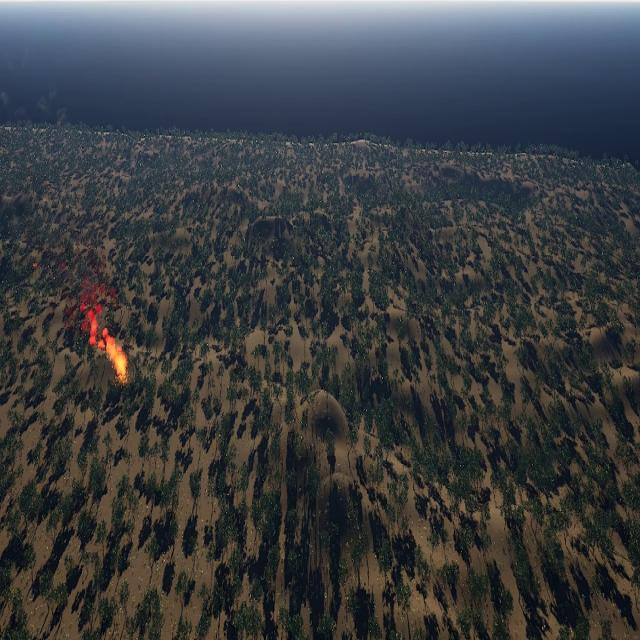fire: (103, 334, 126, 379), (33, 262, 37, 268)
smoke: (0, 44, 72, 129), (58, 253, 115, 346)
